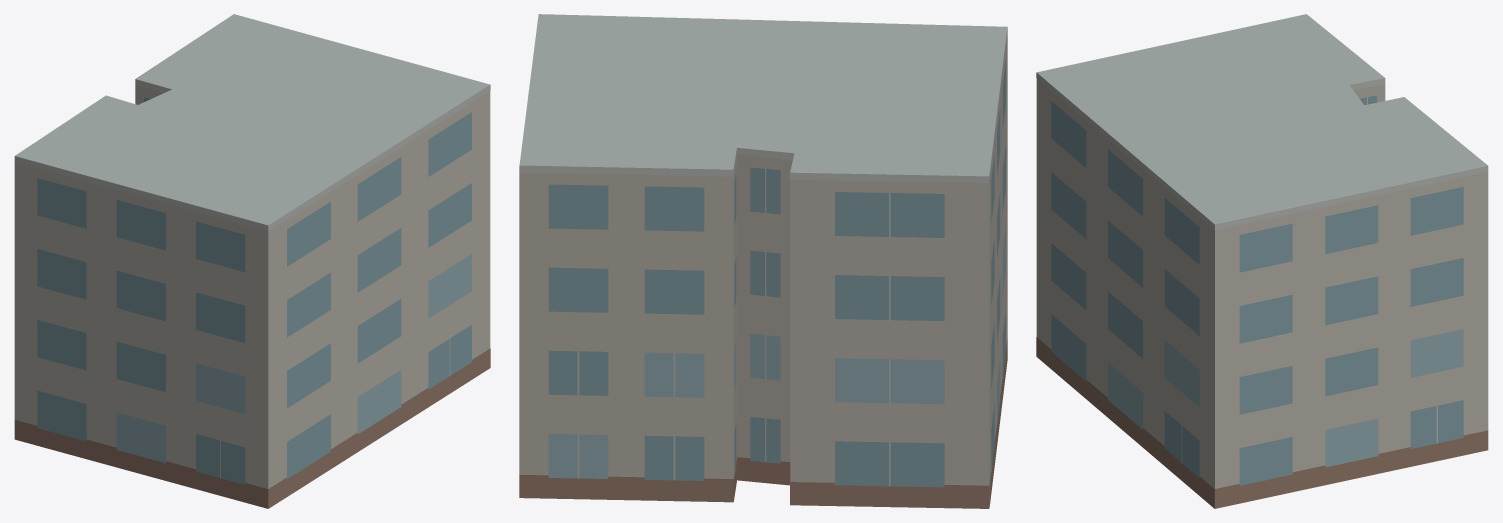
The model's file is survey-upis-32746351.glb.
The picture shows the model from 3 angles, left to right: view 1: azimuth 30°, elevation 25°; view 2: azimuth 150°, elevation 25°; view 3: azimuth 270°, elevation 25°; orthographic projection. The views are drawn at different scales.
Visible parts, largest first — view 1: survey-upis-32746351.tmp; view 2: survey-upis-32746351.tmp; view 3: survey-upis-32746351.tmp.
Boxes of the visible parts, x1,y1,x2,y2 form: survey-upis-32746351.tmp: [14, 14, 490, 508]; survey-upis-32746351.tmp: [519, 14, 1007, 508]; survey-upis-32746351.tmp: [1036, 14, 1488, 508].
Size of the model in its own units: 18.43 by 11.6 by 16.71.
